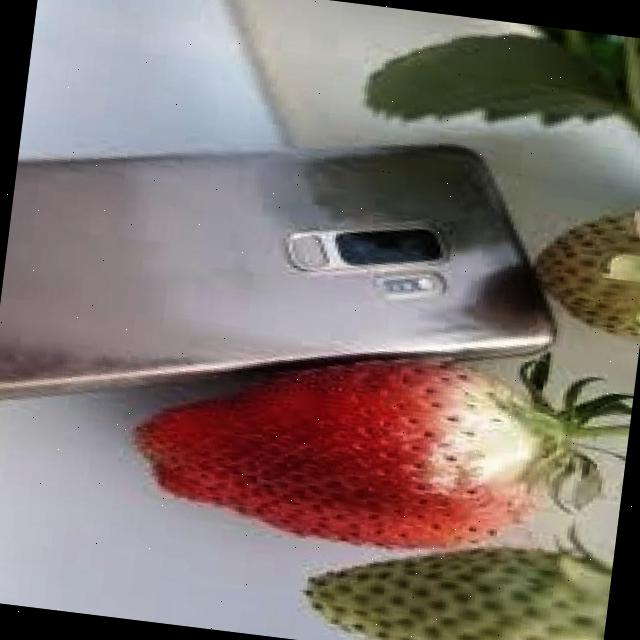strawberry: (123, 322, 560, 566), (298, 522, 613, 640), (525, 202, 640, 336)
